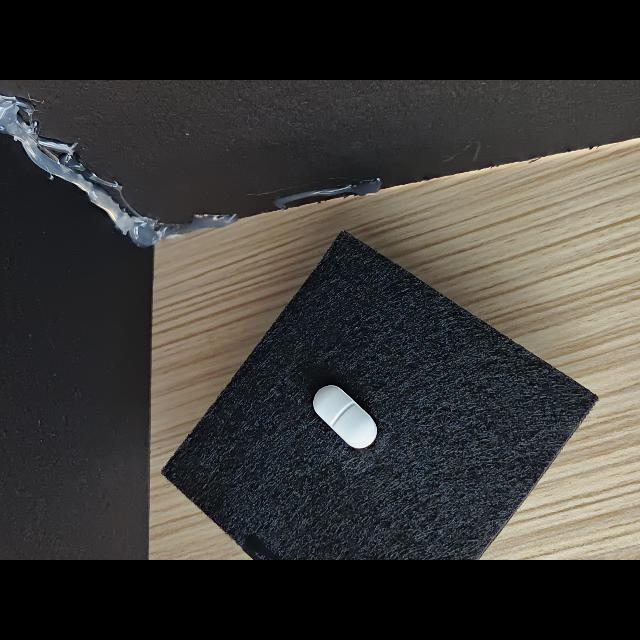Intact Pill: (313, 385, 377, 448)
